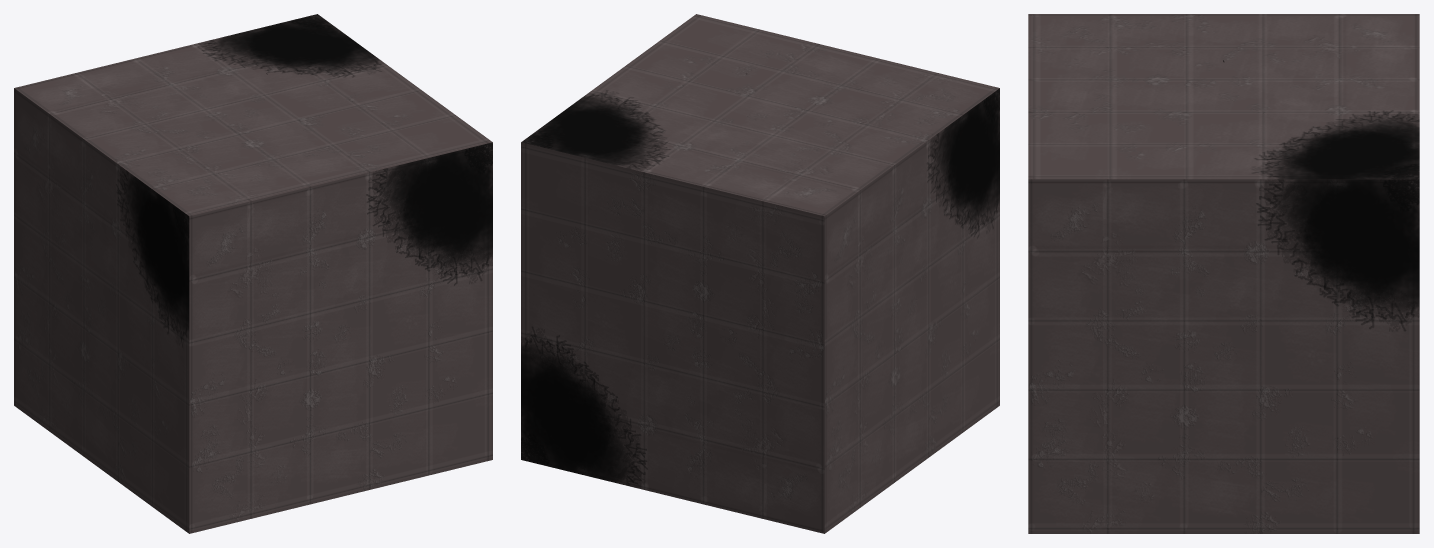
File: Boden_02.fbx
3 views of the same model, side by side, from view 1: azimuth 30°, elevation 25°; view 2: azimuth 150°, elevation 25°; view 3: azimuth 270°, elevation 25° (orthographic). The views are drawn at different scales.
Parts seen in each view (by area): view 1: pCube25; view 2: pCube25; view 3: pCube25.
Boxes of the visible parts, <box> form: pCube25: <box>14,14,492,533</box>; pCube25: <box>521,14,999,533</box>; pCube25: <box>1028,14,1419,533</box>.
Size of the model in its own units: 10 by 11.23 by 10.
2 materials, 1 textured.
